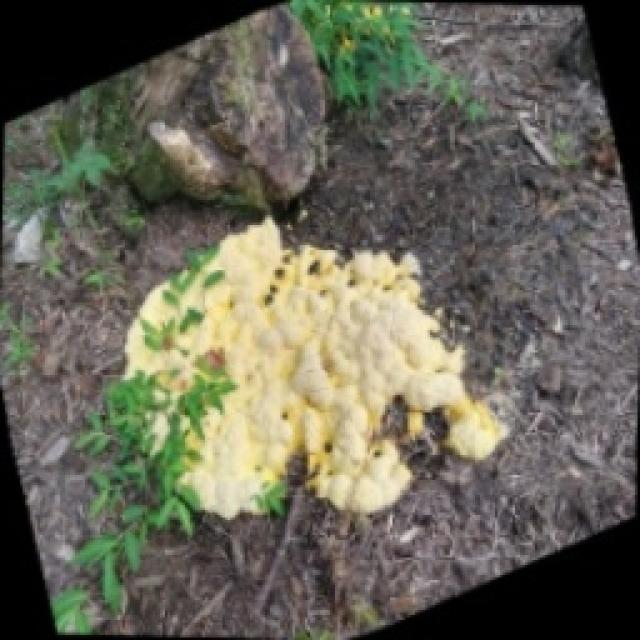Dog_vomit_slime_mold: (98, 216, 536, 528)
